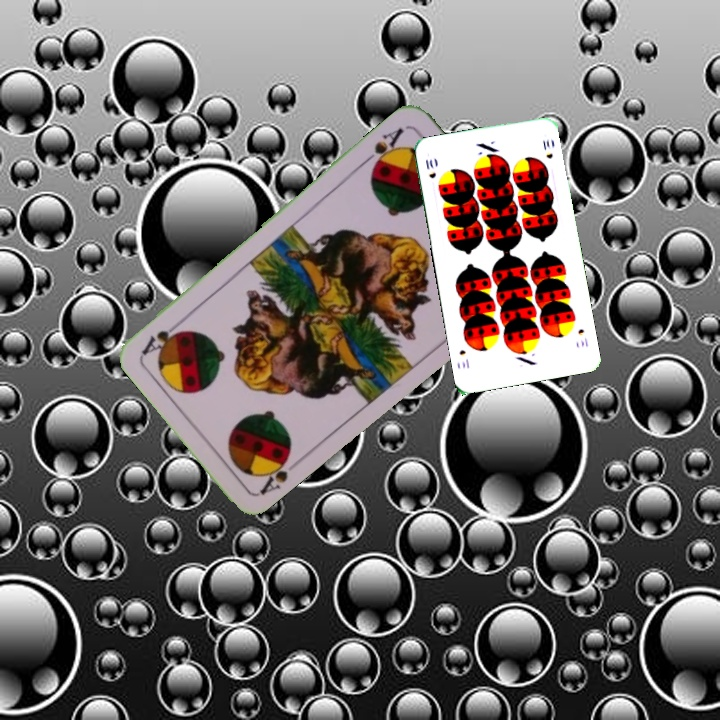S10: (421, 155, 438, 181), (574, 325, 591, 349)
SA: (359, 123, 406, 173), (253, 445, 295, 498)
